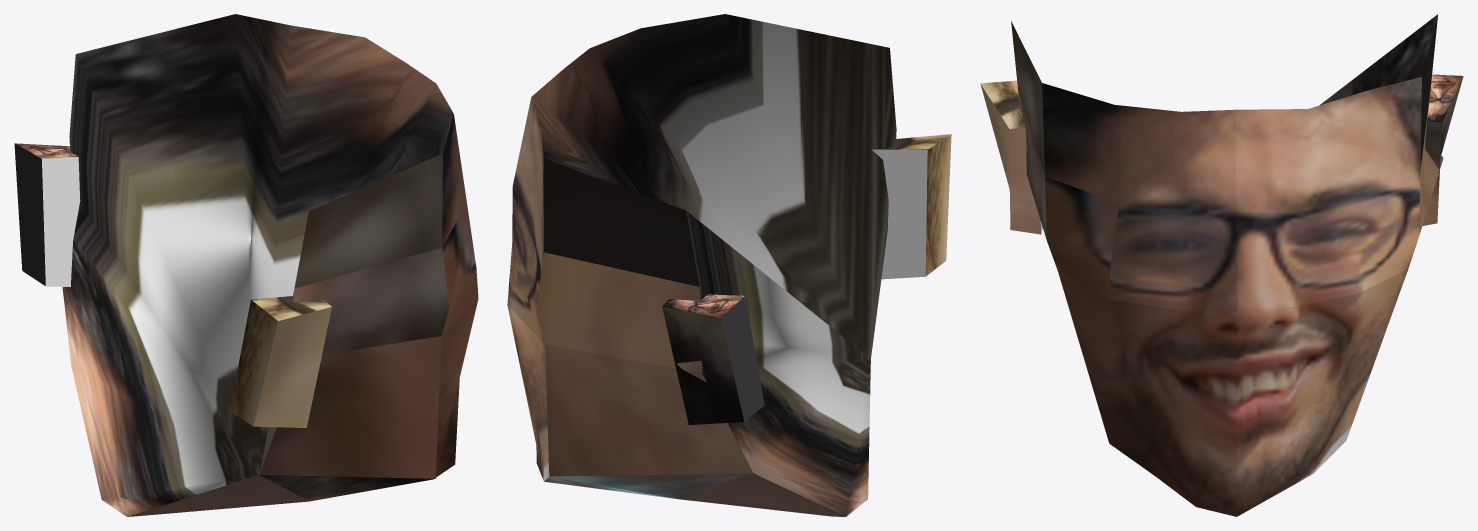
File: carrybhaikasir2.fbx
The picture shows the model from 3 angles, left to right: view 1: azimuth 30°, elevation 25°; view 2: azimuth 150°, elevation 25°; view 3: azimuth 270°, elevation 25°; orthographic projection. The views are drawn at different scales.
Parts seen in each view (by area): view 1: Cylinder; view 2: Cylinder; view 3: Cylinder.
Part boxes in pixels (<box>): Cylinder: <box>14,14,478,516</box>; Cylinder: <box>507,14,951,516</box>; Cylinder: <box>980,14,1463,516</box>.
Size of the model in its own units: 62.21 by 72.49 by 80.57.
1 material, 1 textured.
